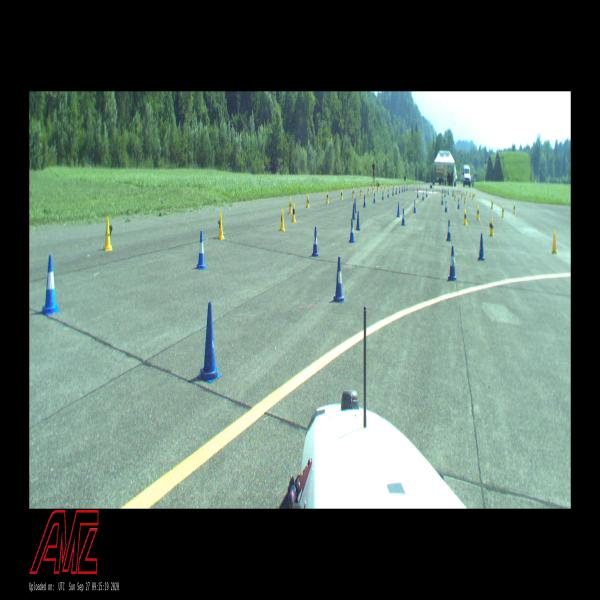blue_cone: (197, 301, 222, 384), (41, 254, 61, 314), (333, 256, 345, 302), (196, 230, 207, 270), (447, 246, 457, 281), (312, 226, 320, 256), (477, 233, 485, 261), (349, 218, 355, 242), (446, 220, 451, 240), (356, 211, 360, 230), (401, 209, 405, 226), (352, 203, 356, 220), (354, 199, 357, 213), (397, 203, 400, 217), (413, 200, 416, 213)
yellow_cone: (103, 217, 113, 251), (218, 212, 225, 239), (551, 230, 558, 254), (280, 208, 285, 231), (462, 209, 468, 226), (292, 203, 296, 222), (490, 218, 494, 235), (288, 198, 292, 214), (476, 206, 480, 220), (306, 194, 309, 207), (326, 191, 329, 204), (340, 189, 343, 200), (502, 205, 504, 217), (513, 203, 515, 213)
